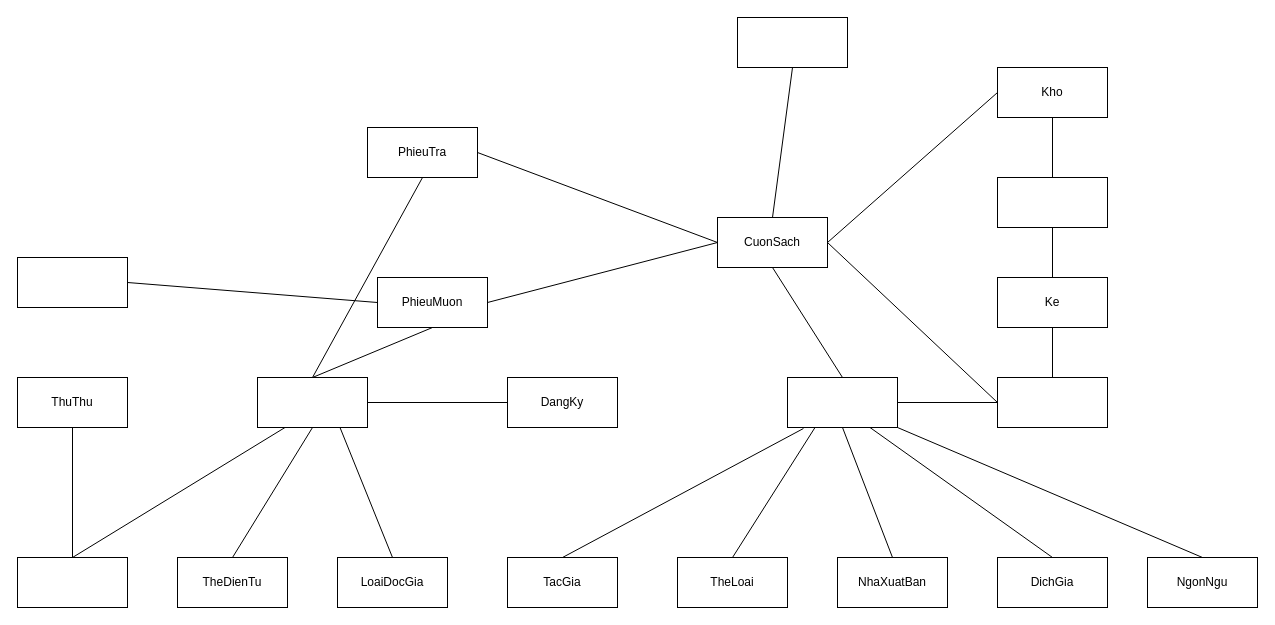
This 1275x625 diagram has some shape labels left out. Each missing label, with the centre of its shape:
"DauSach" goes at (842,402).
"DocGia" goes at (312,402).
"Quay" goes at (1052,202).
"QuyetDinhThanhLy" goes at (792,42).
"TaiKhoan" goes at (72,582).
"ViPham" goes at (72,282).
"ViTriLuu" goes at (1052,402).
